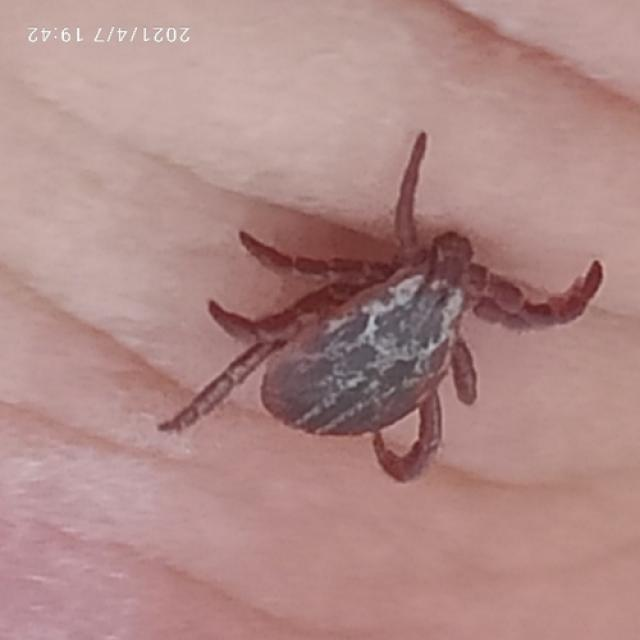Dermacentor Reticulatus-M: (166, 133, 603, 479)
